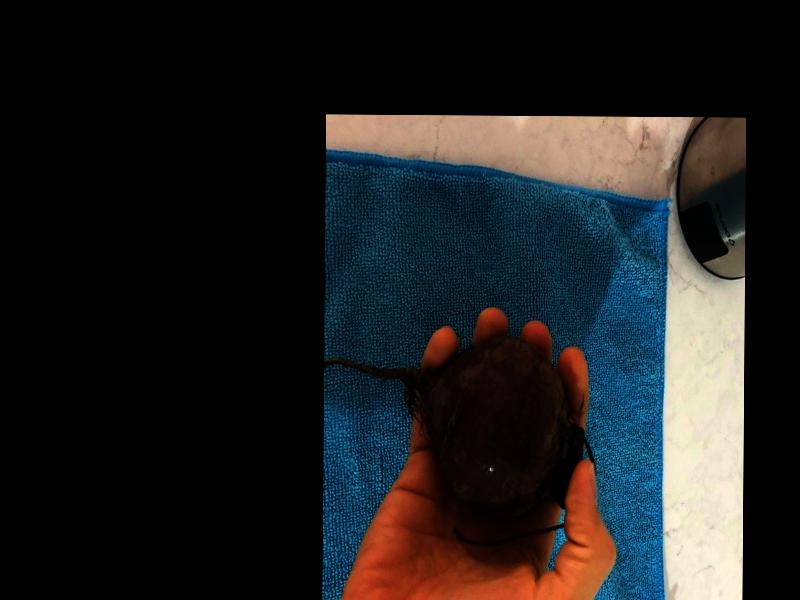Beet: (322, 333, 596, 545)
